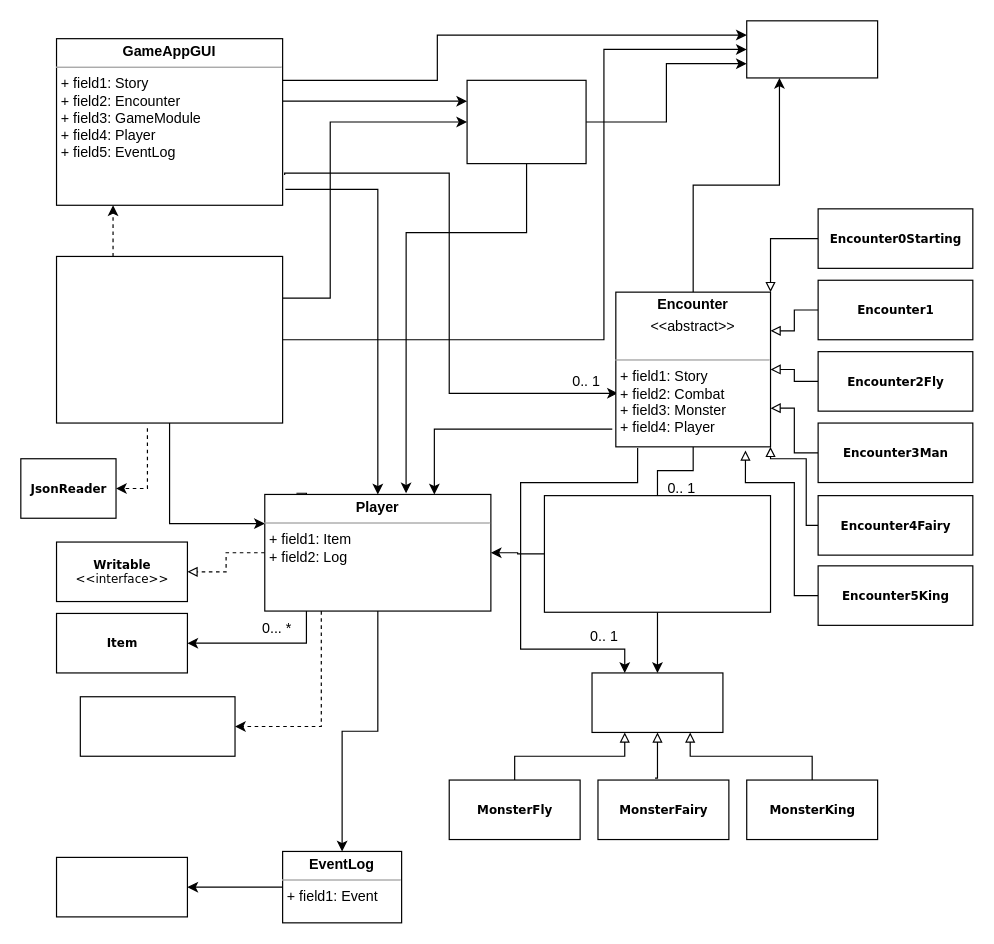
Image size: 994x944. Some labels were removed from this diagram. Here are the shapes that lost their labels. From the top down, the centre of each, then its label:
(x=812, y=49): Story
(x=526, y=121): GameModule + field1: Story + field2: Player
(x=169, y=339): MainMenu + field1: Player + field2: GameModule + field3: Story
(x=657, y=553): Combat + field1: Player + field2: Monster + field3: Encounter + field4: Story
(x=657, y=702): Monster <<abstract>>
(x=157, y=726): JsonWriter
(x=121, y=886): Event
